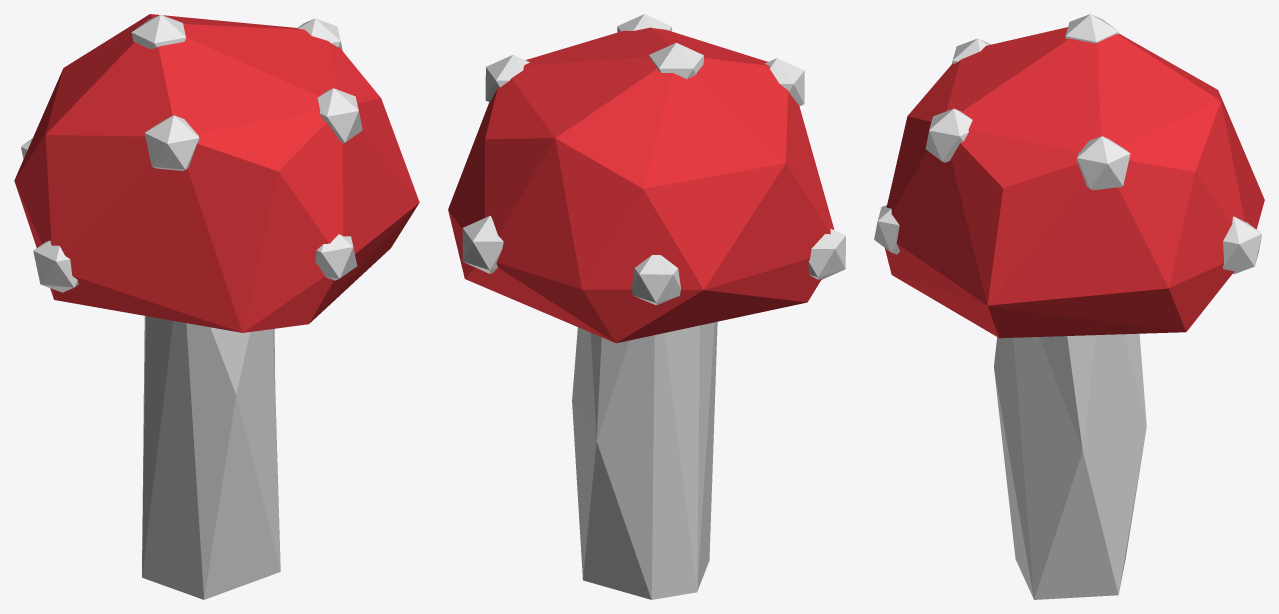
The model's file is mushroom1.gltf.
3 renders of one model, left to right at view 1: azimuth 30°, elevation 25°; view 2: azimuth 150°, elevation 25°; view 3: azimuth 270°, elevation 25°, orthographic. The views are drawn at different scales.
Parts seen in each view (by area): view 1: Mushroom1_Mushroom3_1_0, Mushroom1_Mushroom3_2_0; view 2: Mushroom1_Mushroom3_1_0, Mushroom1_Mushroom3_2_0; view 3: Mushroom1_Mushroom3_1_0, Mushroom1_Mushroom3_2_0.
Part boxes in pixels (x1,y1,x2,y2): Mushroom1_Mushroom3_1_0: [14, 14, 419, 332]; Mushroom1_Mushroom3_2_0: [21, 14, 362, 599]; Mushroom1_Mushroom3_1_0: [448, 27, 834, 343]; Mushroom1_Mushroom3_2_0: [462, 14, 845, 599]; Mushroom1_Mushroom3_1_0: [885, 27, 1264, 338]; Mushroom1_Mushroom3_2_0: [874, 14, 1261, 599].
Bounding box in the file's own units: 0.694 × 1.05 × 0.6847.
